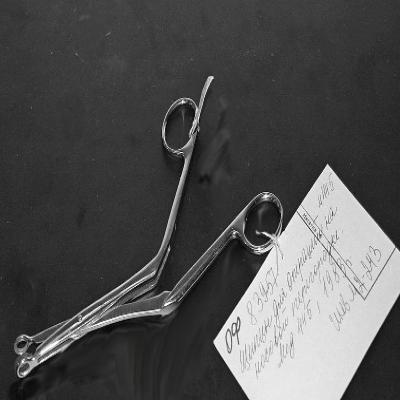other: (14, 77, 284, 379)
